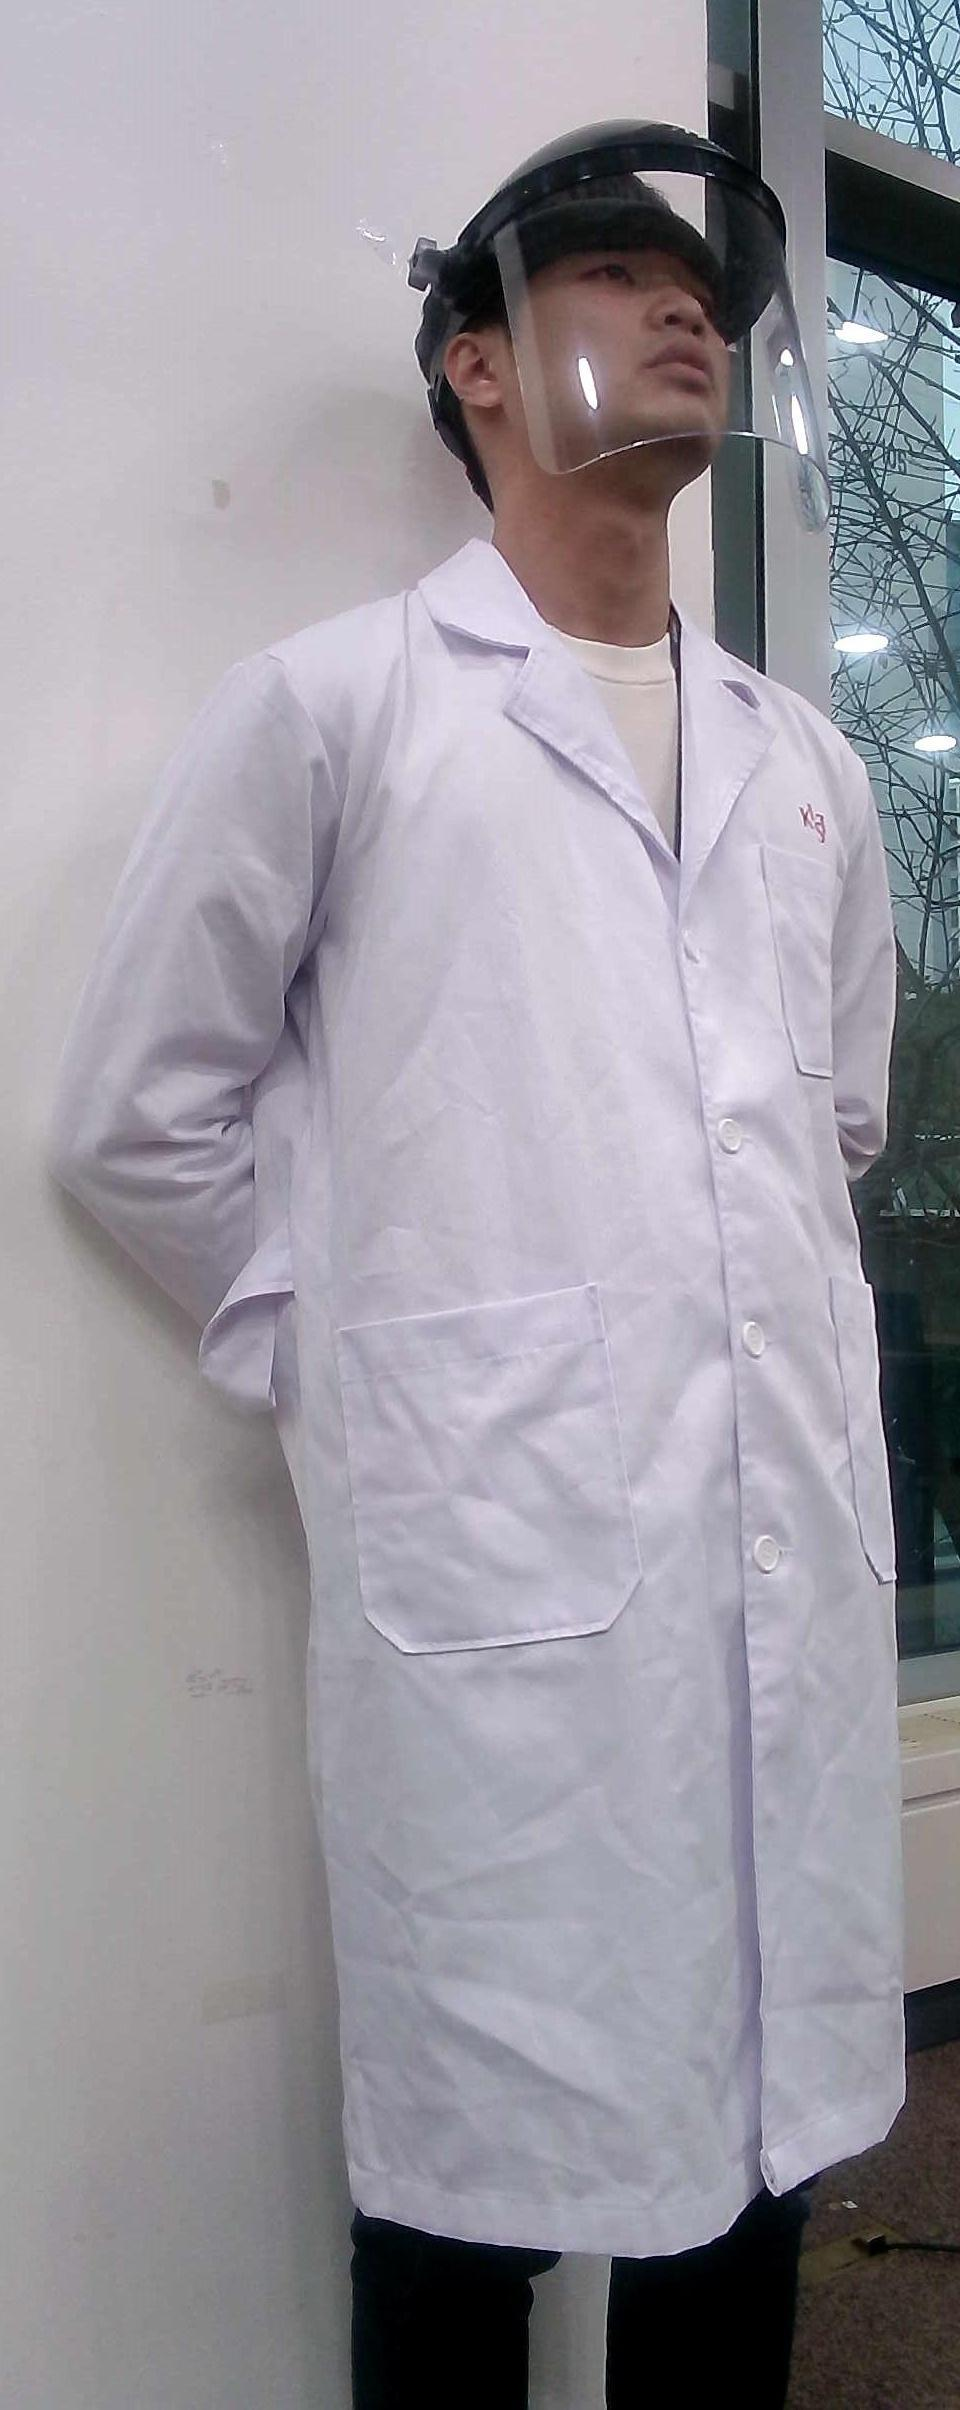lab_coat: (346, 721, 876, 2238)
